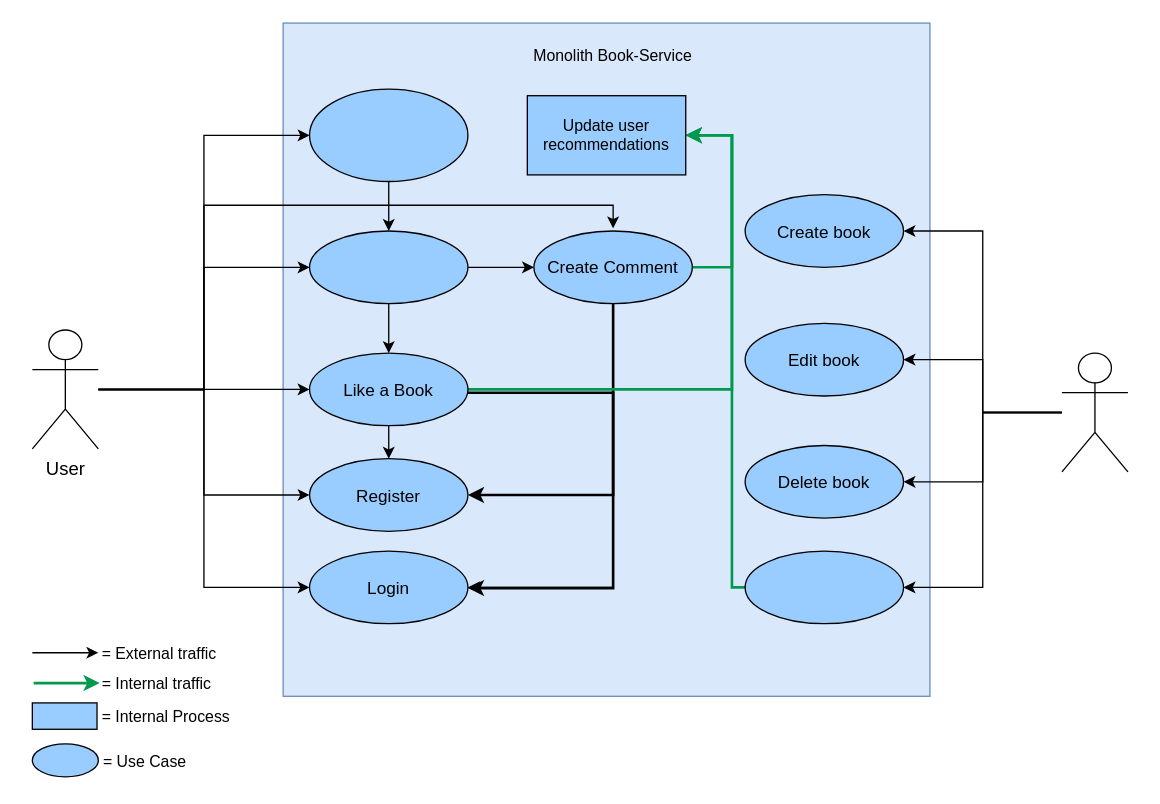
Image size: 1160x804. Some labels were removed from this diagram. The shapes that lost their labels are listed below. From the top down, each one's centre as x and y in pixels, then its label:
At (388,135): "Get recommendations".
At (388,267): "View a book".
At (1094,412): "Moderator".
At (824,587): "Delete comment".
